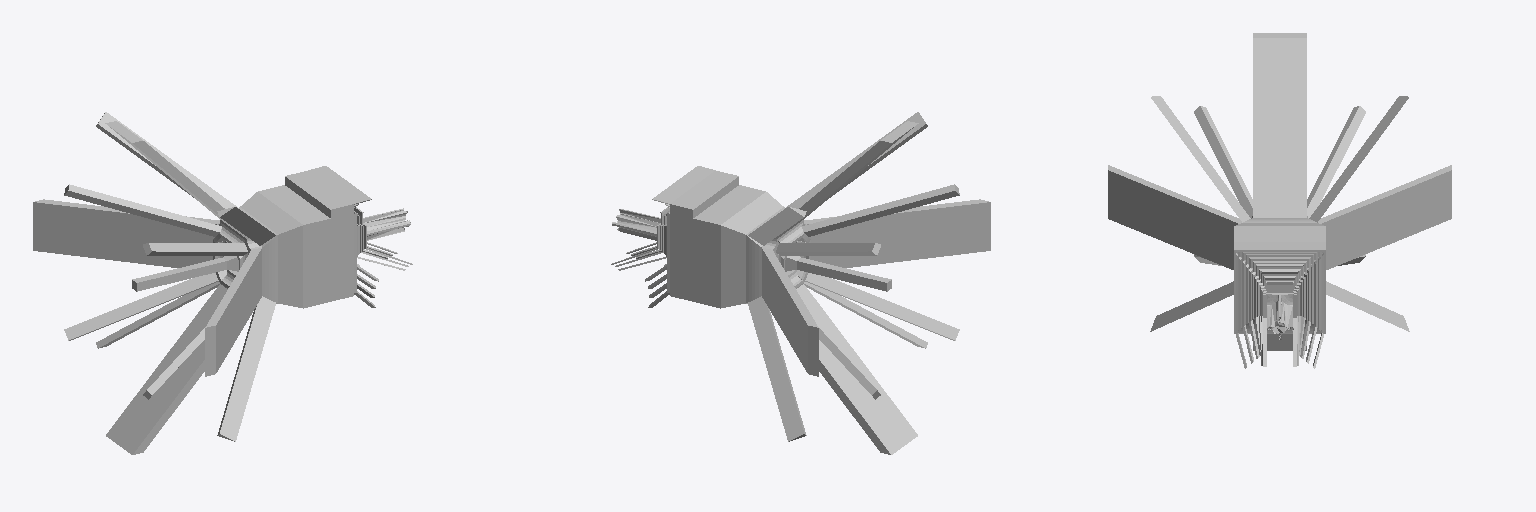
Rendered from RandomAbstractCreation_0.obj.
The picture shows the model from 3 angles: view 1: azimuth 30°, elevation 25°; view 2: azimuth 150°, elevation 25°; view 3: azimuth 270°, elevation 25°; orthographic projection.
Parts seen in each view (by area): view 1: Cube; view 2: Cube; view 3: Cube.
Part boxes in pixels (x1,y1,x2,y2): Cube: (33,112,412,454); Cube: (611,112,990,454); Cube: (1108,33,1451,368).
Bounding box in the file's own units: 7.56 × 7.49 × 7.49.